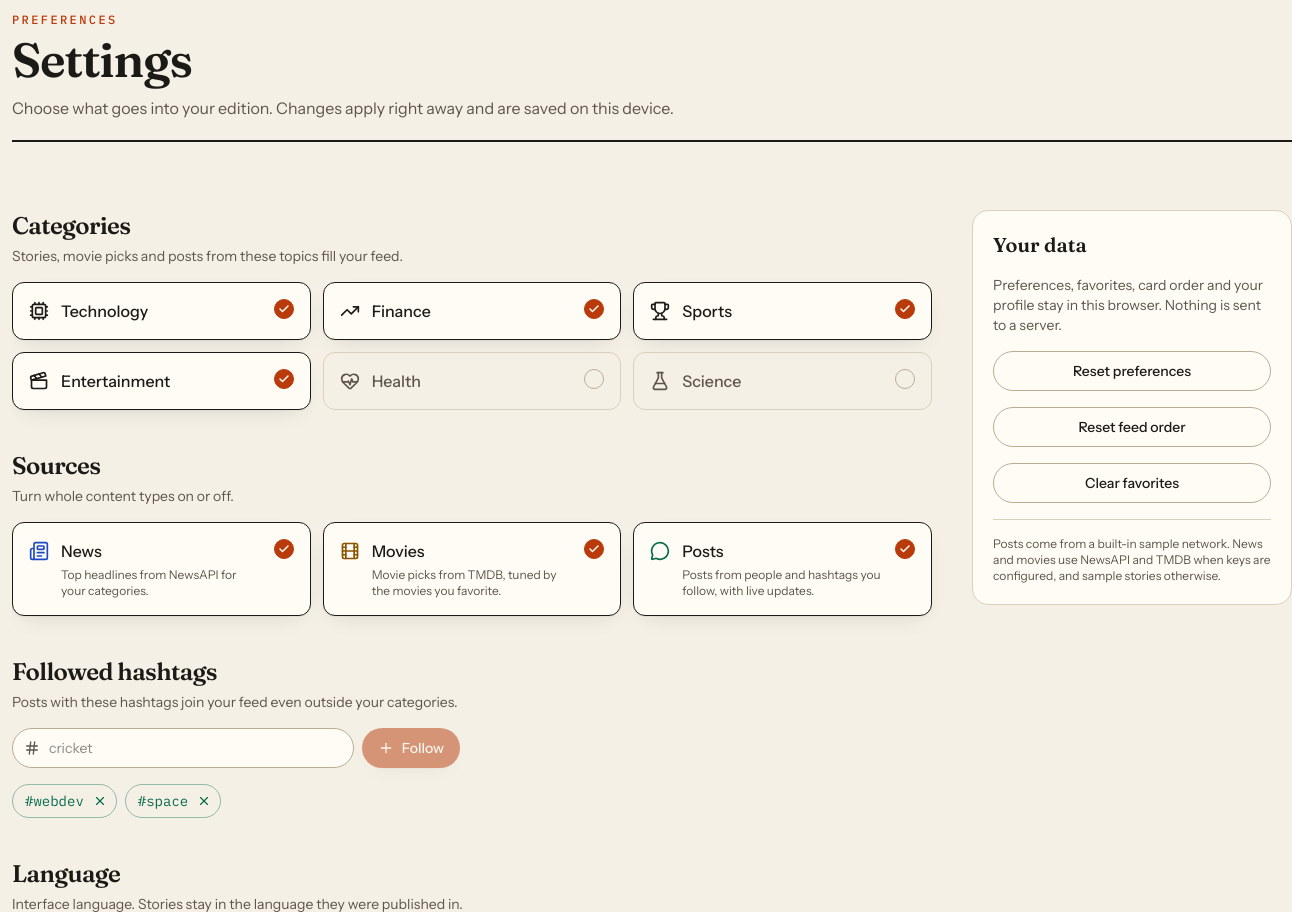
Test: SettingsView (integration) › explains why the last category cannot be turned off
This screenshot has width=1292, height=912.
Expected: the element named "Categories" is shown, top-left (12, 282), bottom-right (932, 410)
Click the button "Technology" at (105, 311), box top-left (12, 282), bottom-right (311, 340)
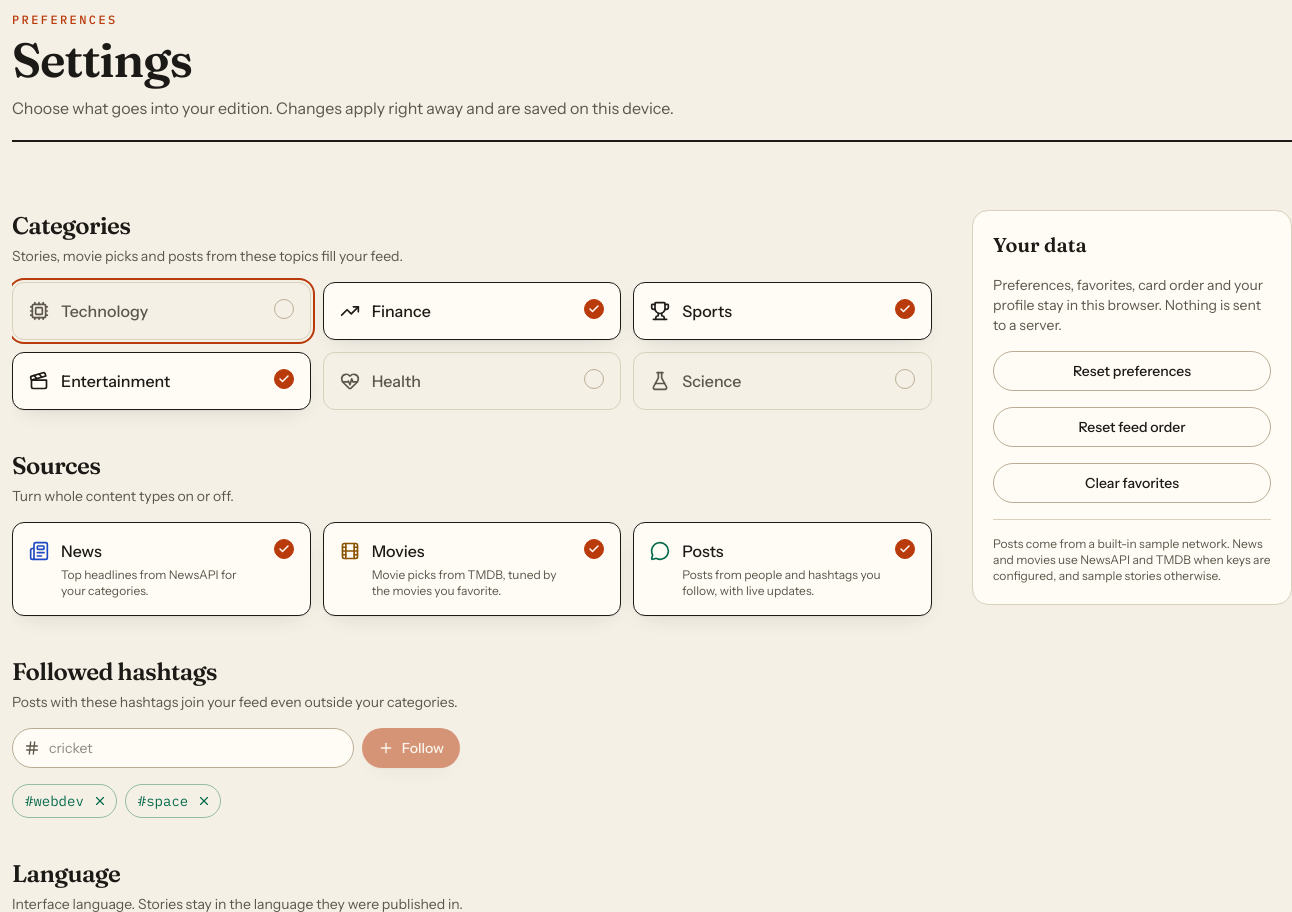
Click the button "Finance" at (401, 311), box top-left (323, 282), bottom-right (621, 340)
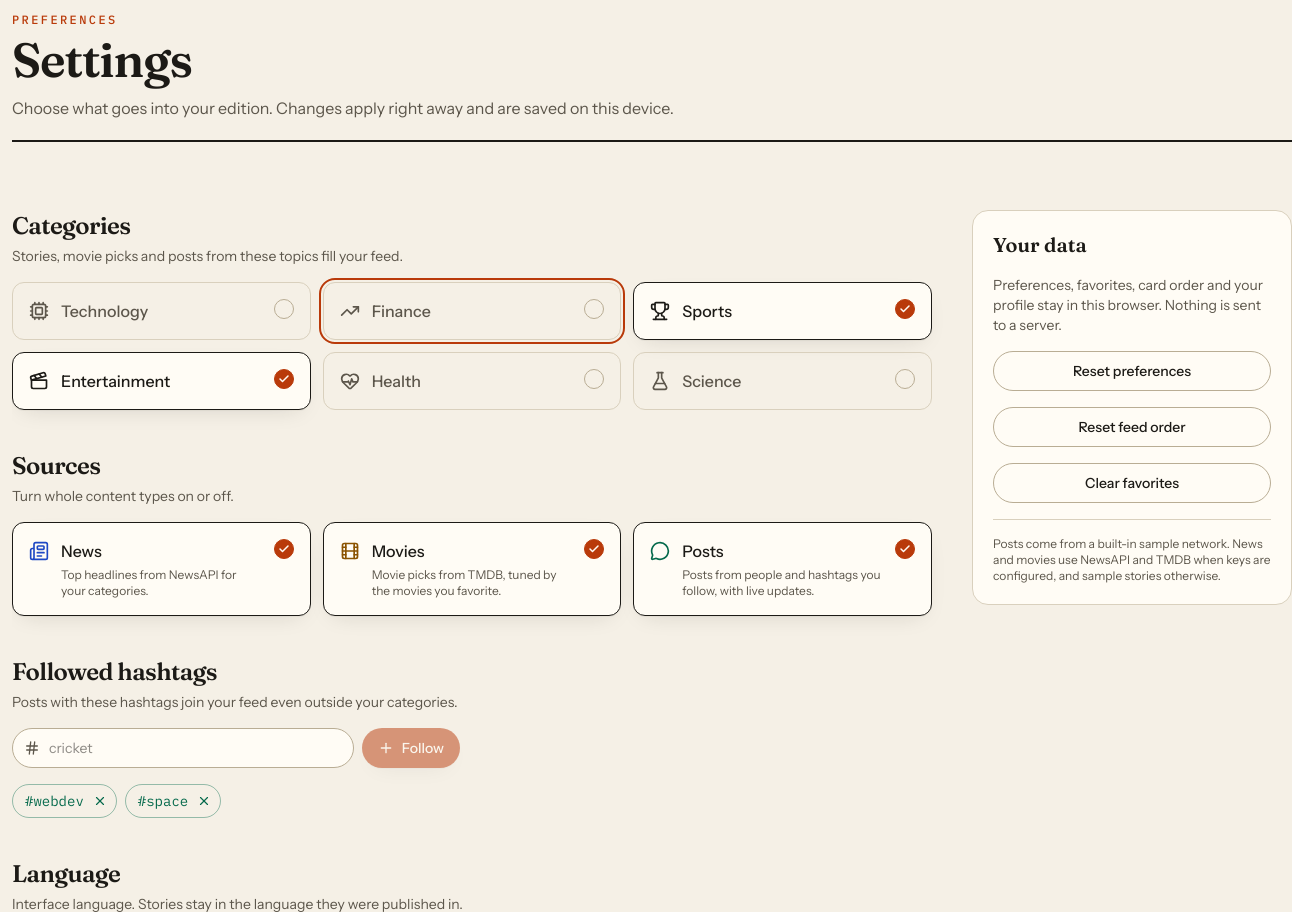
Click the button "Sports" at (707, 311), box top-left (633, 282), bottom-right (932, 340)
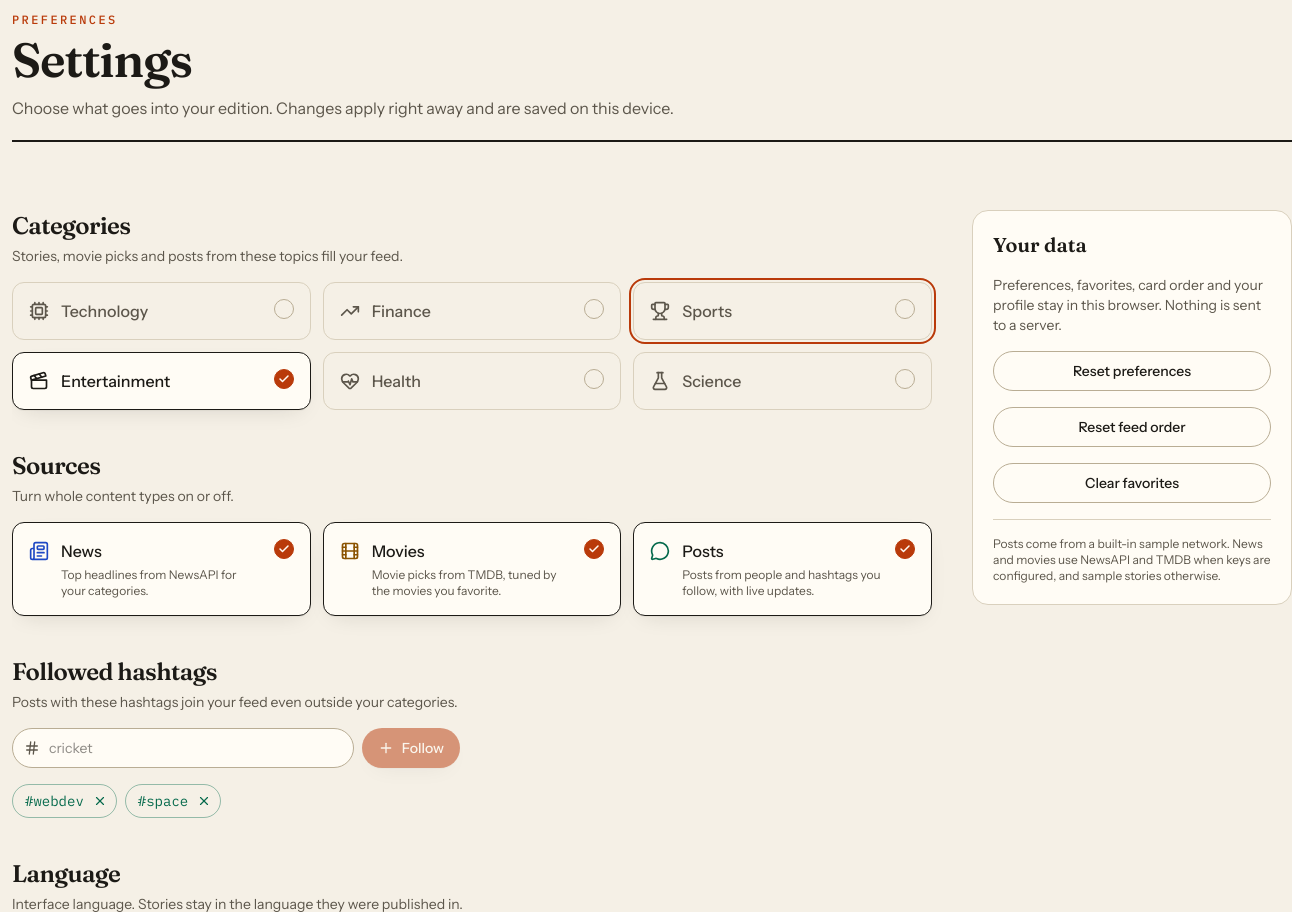
Click the button "Entertainment" at (161, 381), box top-left (12, 352), bottom-right (311, 410)
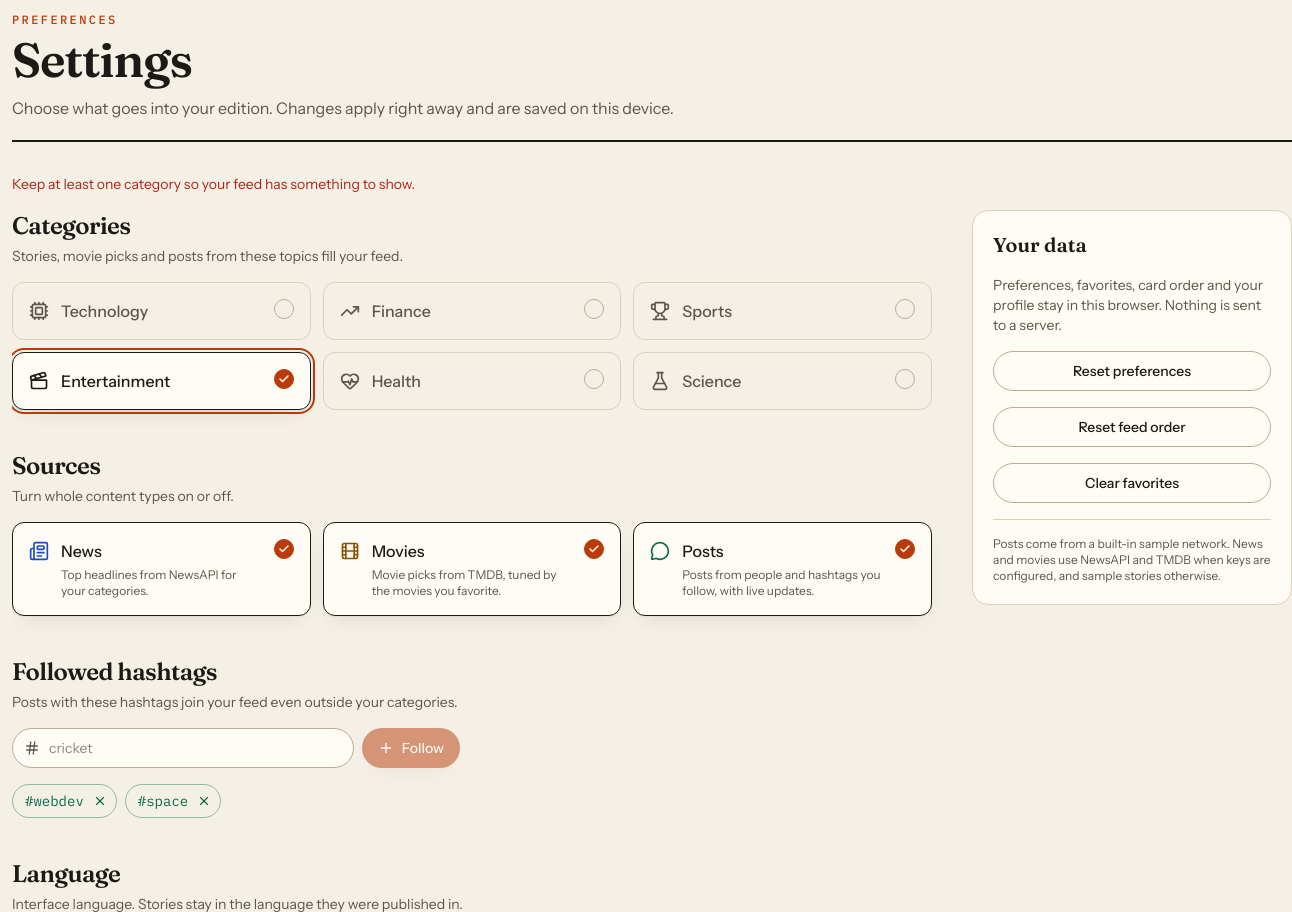
Now the message shows "Keep at least one category", box top-left (12, 175), bottom-right (415, 193)
